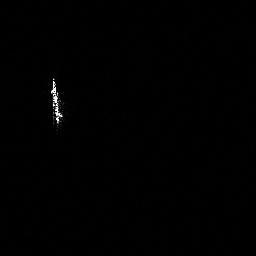ship: (47, 75, 66, 130)
